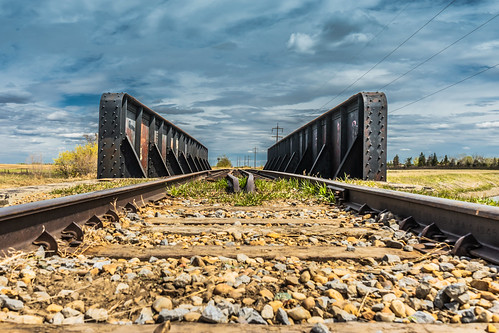sky: (1, 1, 495, 159)
train track: (5, 160, 499, 333)
